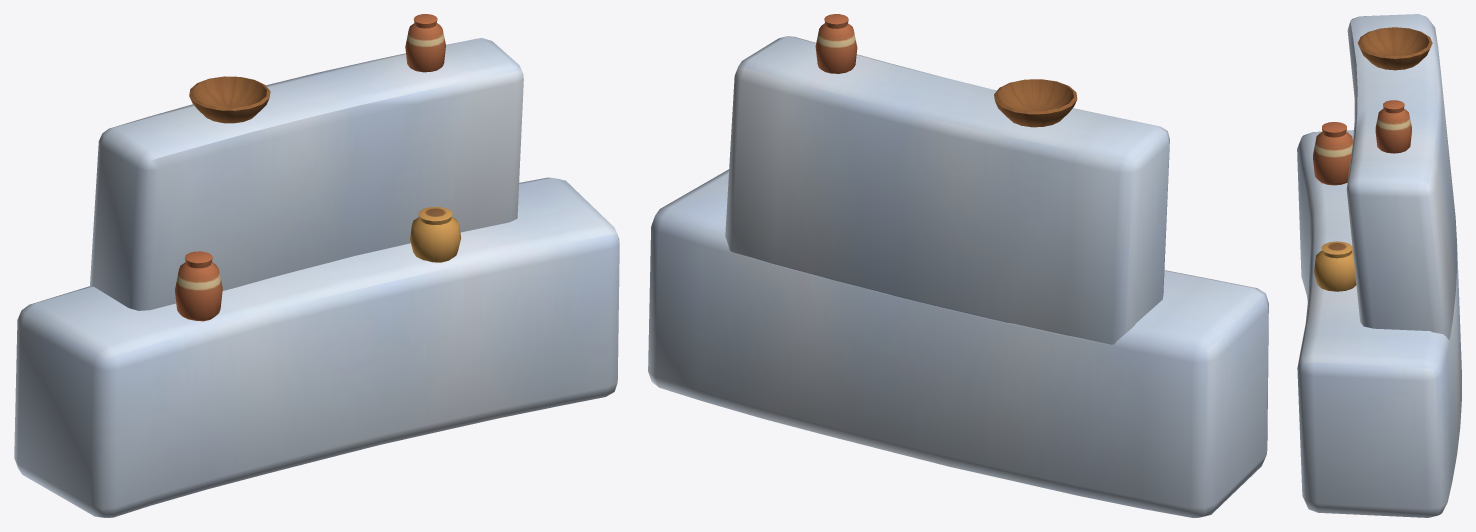
Rendered from SM_Igloo_Shelf.glb.
The picture shows the model from 3 angles, left to right: view 1: azimuth 30°, elevation 25°; view 2: azimuth 150°, elevation 25°; view 3: azimuth 270°, elevation 25°; orthographic projection. The views are drawn at different scales.
Parts seen in each view (by area): view 1: SM_Igloo_Shelf; view 2: SM_Igloo_Shelf; view 3: SM_Igloo_Shelf.
Part boxes in pixels (x1,y1,x2,y2): SM_Igloo_Shelf: (14, 14, 619, 517); SM_Igloo_Shelf: (648, 14, 1268, 517); SM_Igloo_Shelf: (1297, 14, 1461, 517).
Size of the model in its own units: 1.98 by 1.31 by 0.5626.
1 material, 1 textured.
